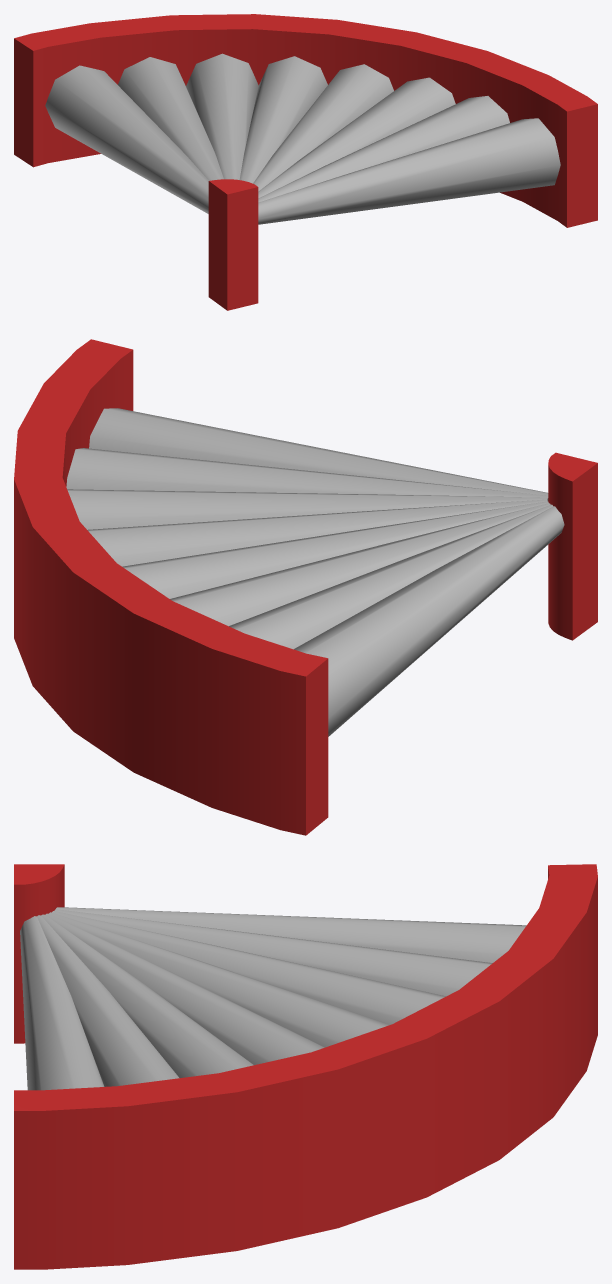
The model's file is Turn Conveyor Belt.fbx.
The picture shows the model from 3 angles, top to bottom: view 1: azimuth 30°, elevation 25°; view 2: azimuth 150°, elevation 25°; view 3: azimuth 270°, elevation 25°; orthographic projection. The views are drawn at different scales.
Parts seen in each view (by area): view 1: Turn Conveyor Belt; view 2: Turn Conveyor Belt; view 3: Turn Conveyor Belt.
Boxes of the visible parts, x1,y1,x2,y2 form: Turn Conveyor Belt: (14,14,597,310); Turn Conveyor Belt: (14,339,597,835); Turn Conveyor Belt: (14,864,597,1269).
Size of the model in its own units: 1 by 1 by 0.3.
1 material, 1 textured.
